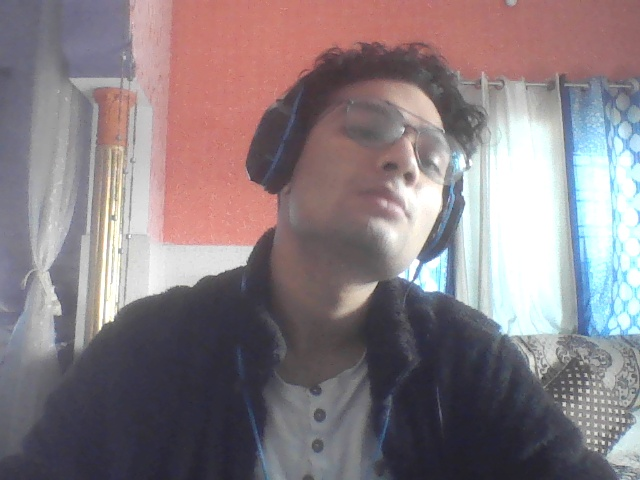real: (285, 40, 450, 274)
